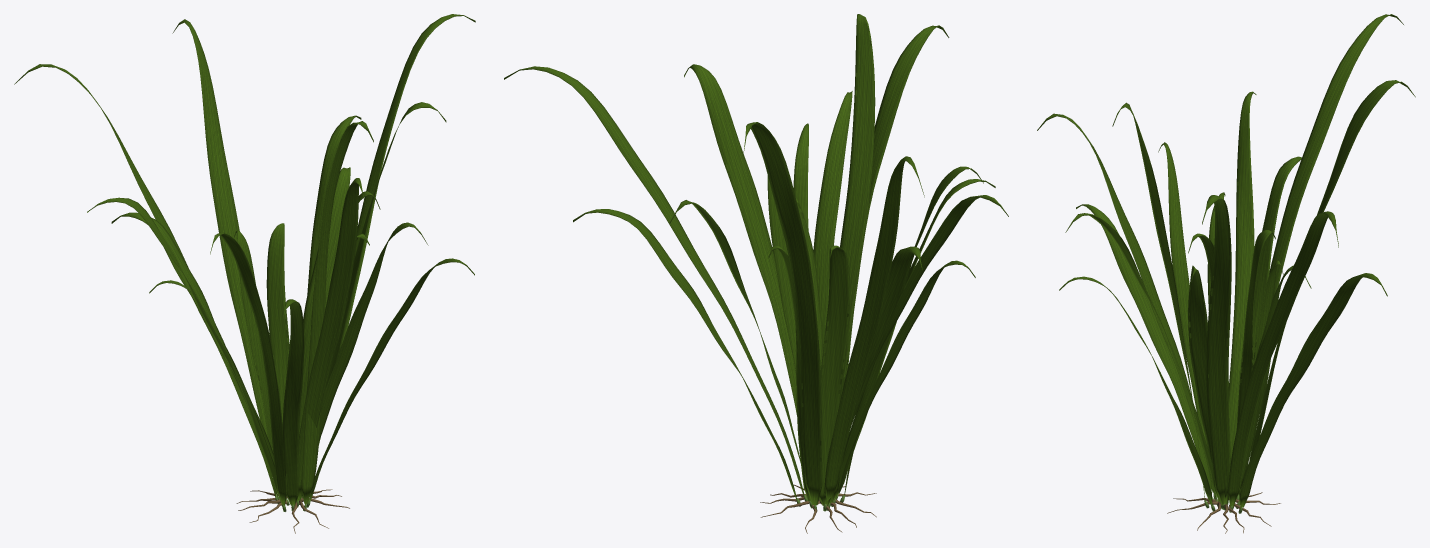
3 renders of one model, left to right at view 1: azimuth 30°, elevation 25°; view 2: azimuth 150°, elevation 25°; view 3: azimuth 270°, elevation 25°, orthographic. The views are drawn at different scales.
Parts seen in each view (by area): view 1: RiverPlant_Ribbon; view 2: RiverPlant_Ribbon; view 3: RiverPlant_Ribbon.
Boxes of the visible parts, x1=… form: RiverPlant_Ribbon: x1=14, y1=14, x2=475, y2=533; RiverPlant_Ribbon: x1=504, y1=14, x2=1008, y2=533; RiverPlant_Ribbon: x1=1037, y1=14, x2=1415, y2=533.
Bounding box in the file's own units: 2.17 × 2.07 × 1.69.
3 materials, 1 textured.
